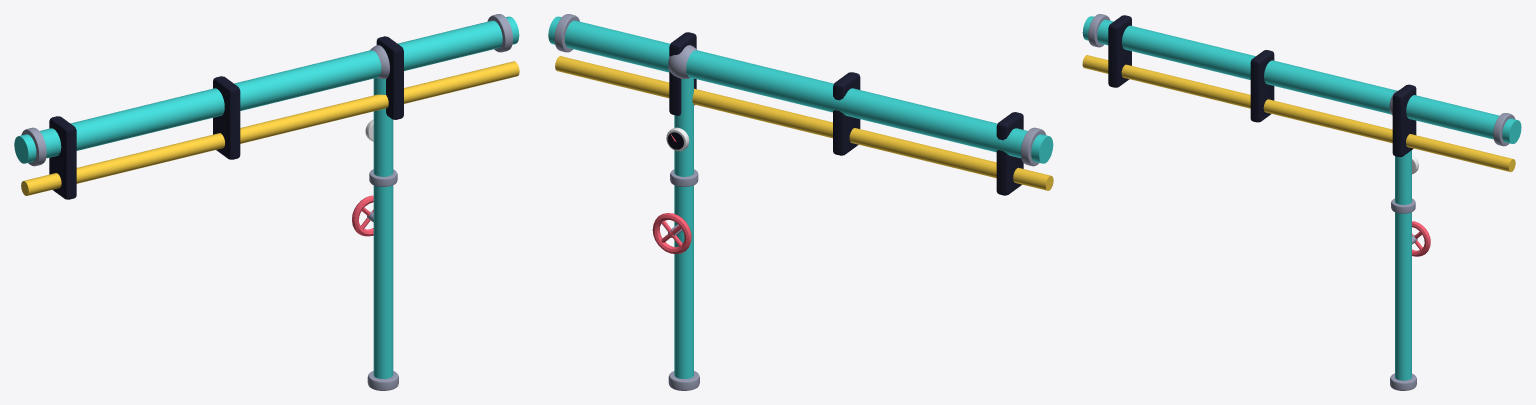
File: pipes.glb
The picture shows the model from 3 angles, left to right: view 1: azimuth 30°, elevation 25°; view 2: azimuth 150°, elevation 25°; view 3: azimuth 330°, elevation 25°; orthographic projection. The views are drawn at different scales.
Visible parts, largest first — view 1: Body; view 2: Body; view 3: Body.
Boxes of the visible parts, left/top/right/bottom form: Body: left=14, top=14, right=519, bottom=390; Body: left=548, top=14, right=1053, bottom=390; Body: left=1082, top=14, right=1521, bottom=390.
Bounding box in the file's own units: 4 × 2.68 × 0.366.
